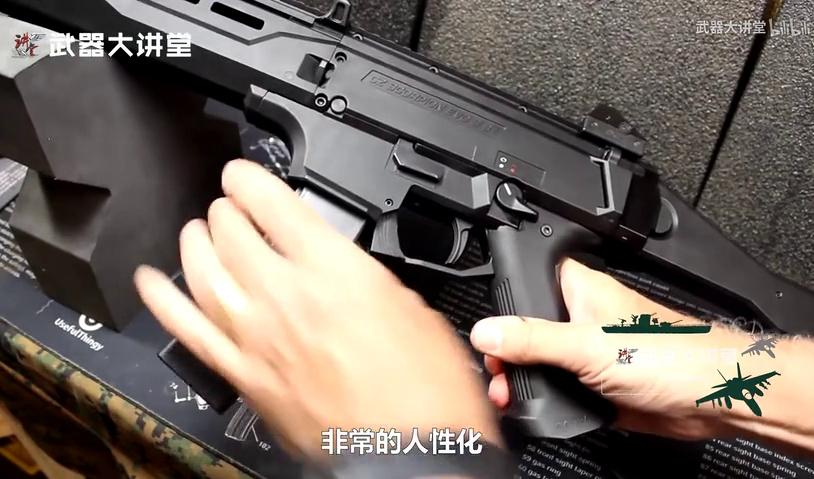gun: (1, 0, 814, 479)
